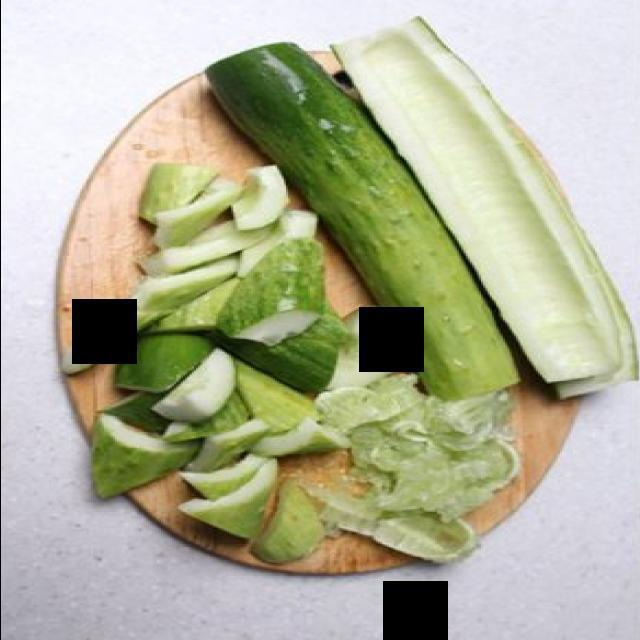cucumber: (65, 14, 638, 625), (354, 20, 626, 382), (66, 172, 312, 392), (182, 366, 364, 584), (100, 404, 190, 528)
